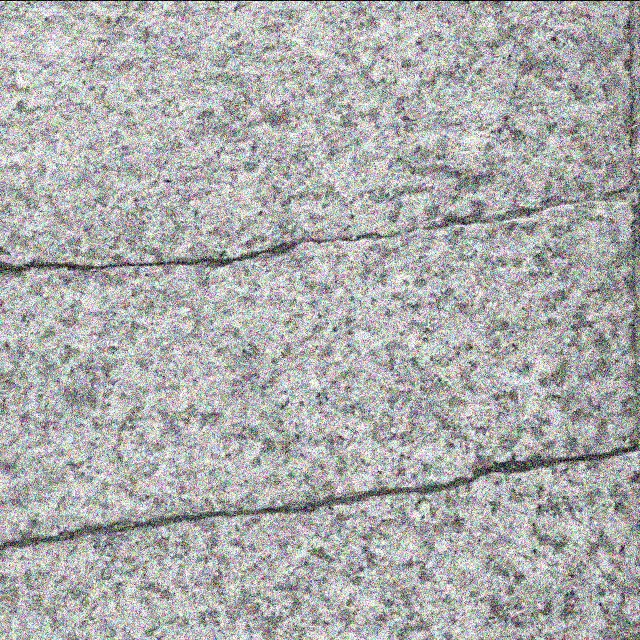SurfaceCrack: (0, 139, 638, 321)
